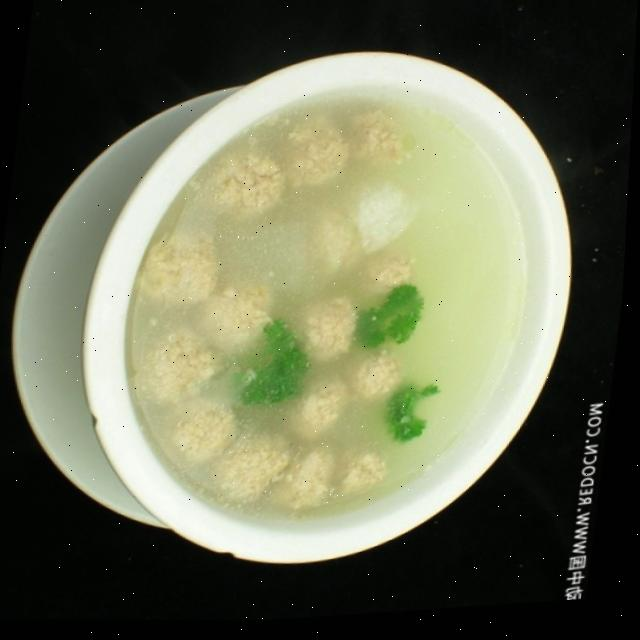汤锅炖物: (30, 9, 592, 594)
